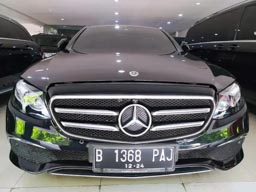plat: (94, 147, 174, 162)
